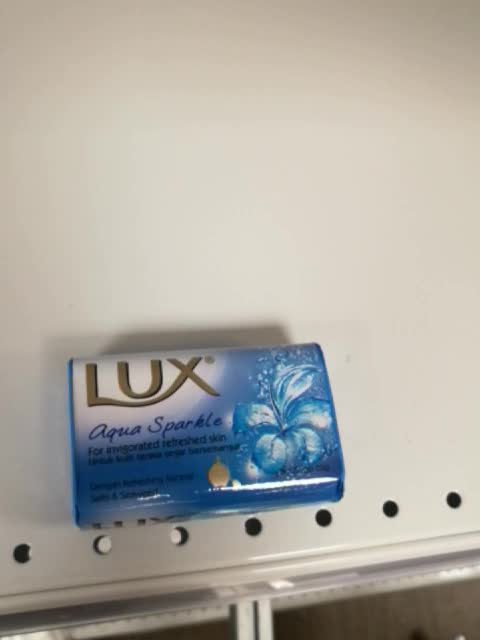soap: (63, 341, 348, 533)
